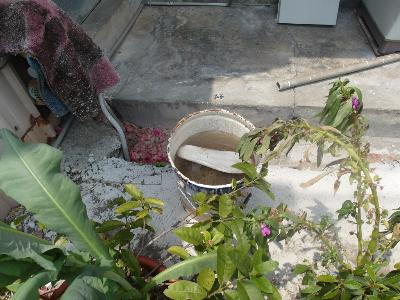bucket: (163, 109, 266, 223)
